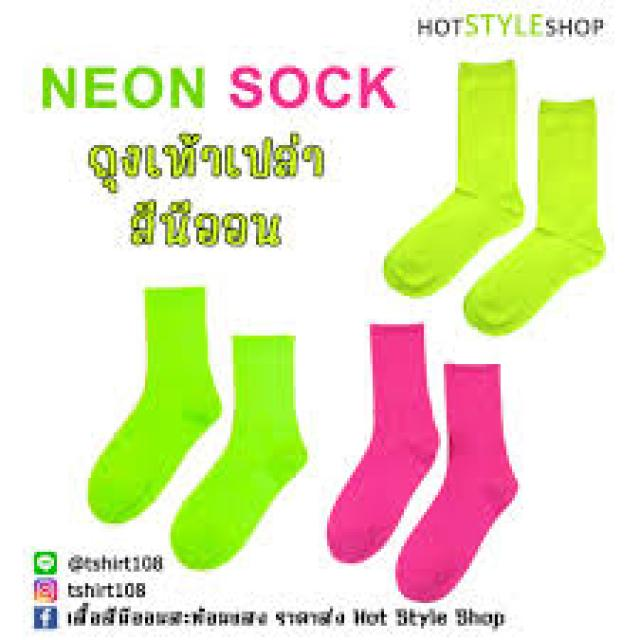sock: (461, 94, 606, 336), (382, 57, 524, 299), (85, 284, 222, 524), (168, 333, 307, 569), (392, 361, 518, 600), (324, 322, 438, 564)
